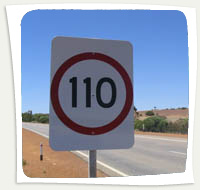Speed_limit_110km: (51, 52, 133, 135)
